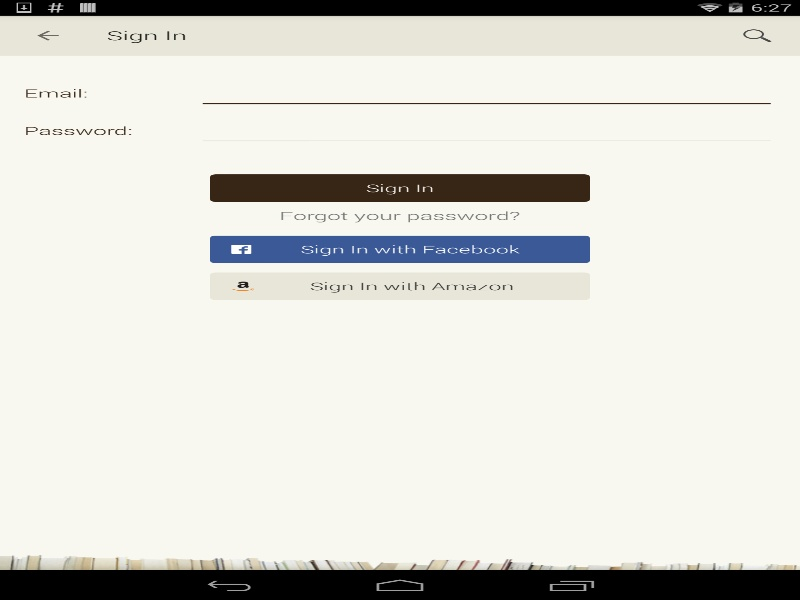Button: (210, 235, 590, 263), (210, 272, 590, 300), (210, 174, 590, 201), (10, 15, 85, 55)
Input: (197, 77, 776, 108), (197, 115, 776, 146)
